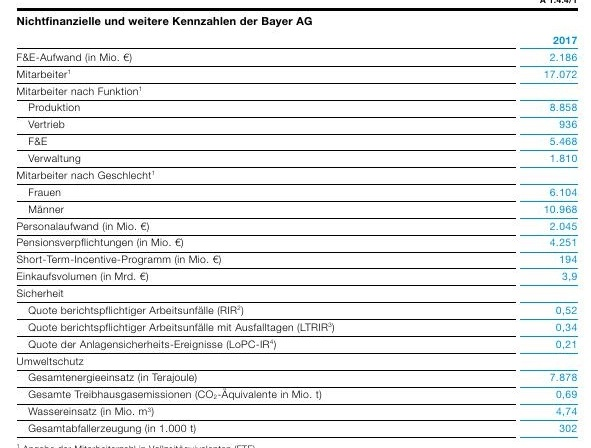table: (0, 0, 591, 448)
